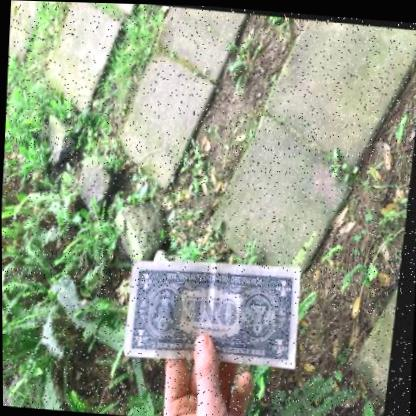one-back: (127, 257, 306, 367)
